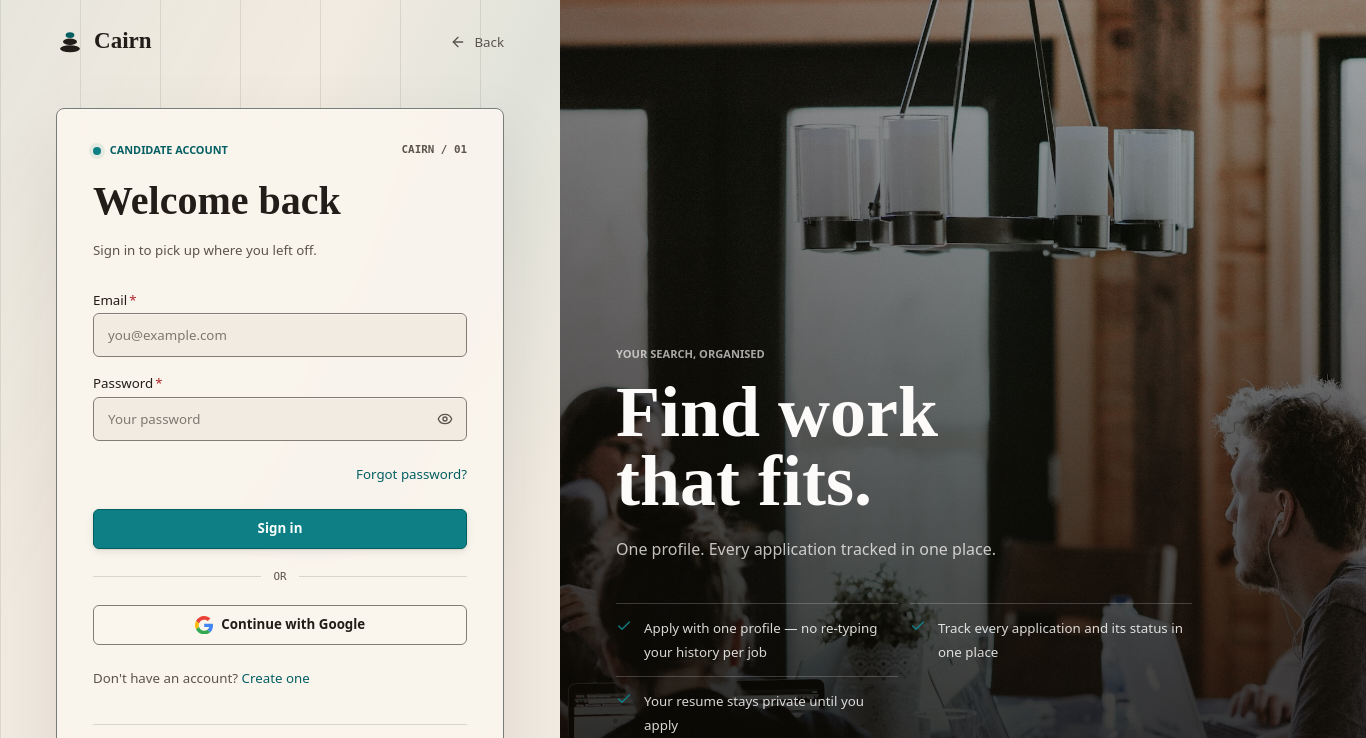
Test case: Login › refuses to navigate to a start URL that is not absolute https
Click the button "Continue with Google".
click(280, 625)  # box [93,605,467,645]
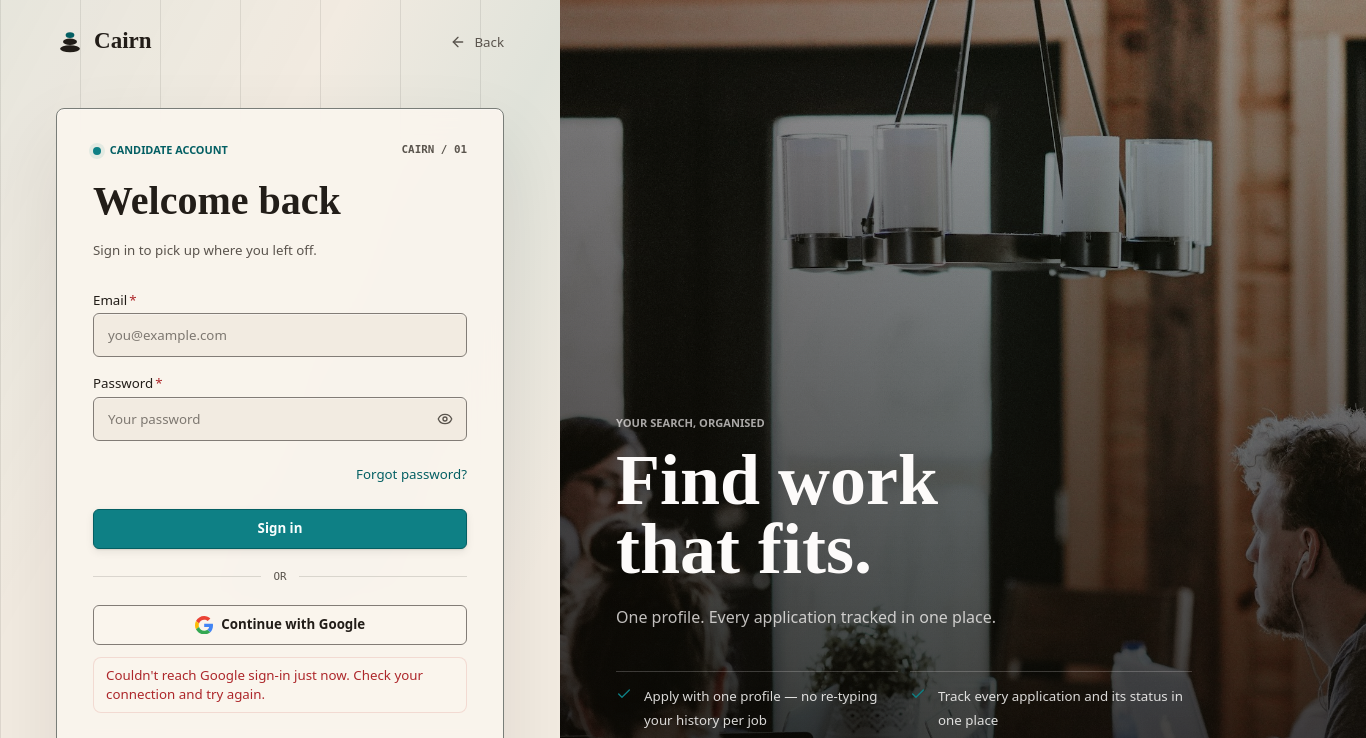
Expected: the message "Couldn't reach Google sign-in just now. Check your connection and try again." is shown, [93,657,467,713]
